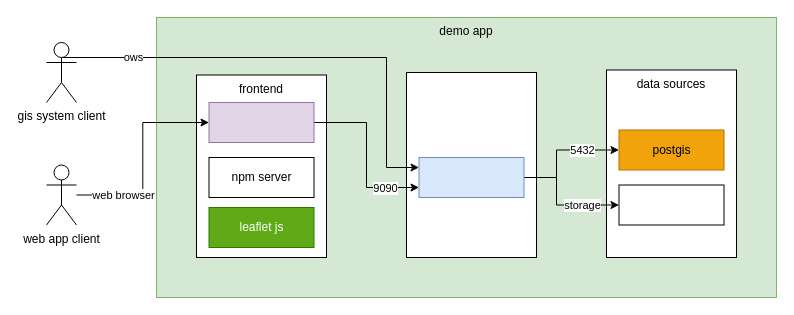
Some shapes in this 794 by 315 pixel diagram are drawn without their labels. The box of each missing label's shape, as (x1, y1, x2, y2) in pixels:
geoserver: (418, 156, 524, 198)
gpkg, fgb files: (618, 184, 724, 225)
map services: (406, 72, 536, 258)
react app: (208, 102, 314, 142)
